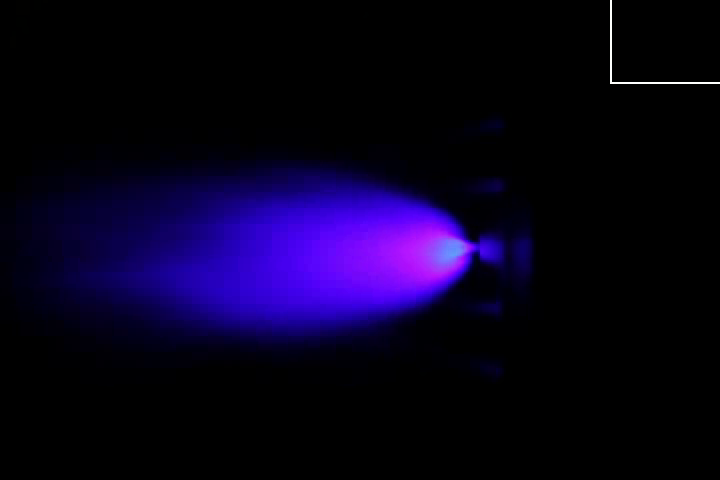burner cap: (475, 231, 502, 265)
stable: (394, 215, 476, 283)
